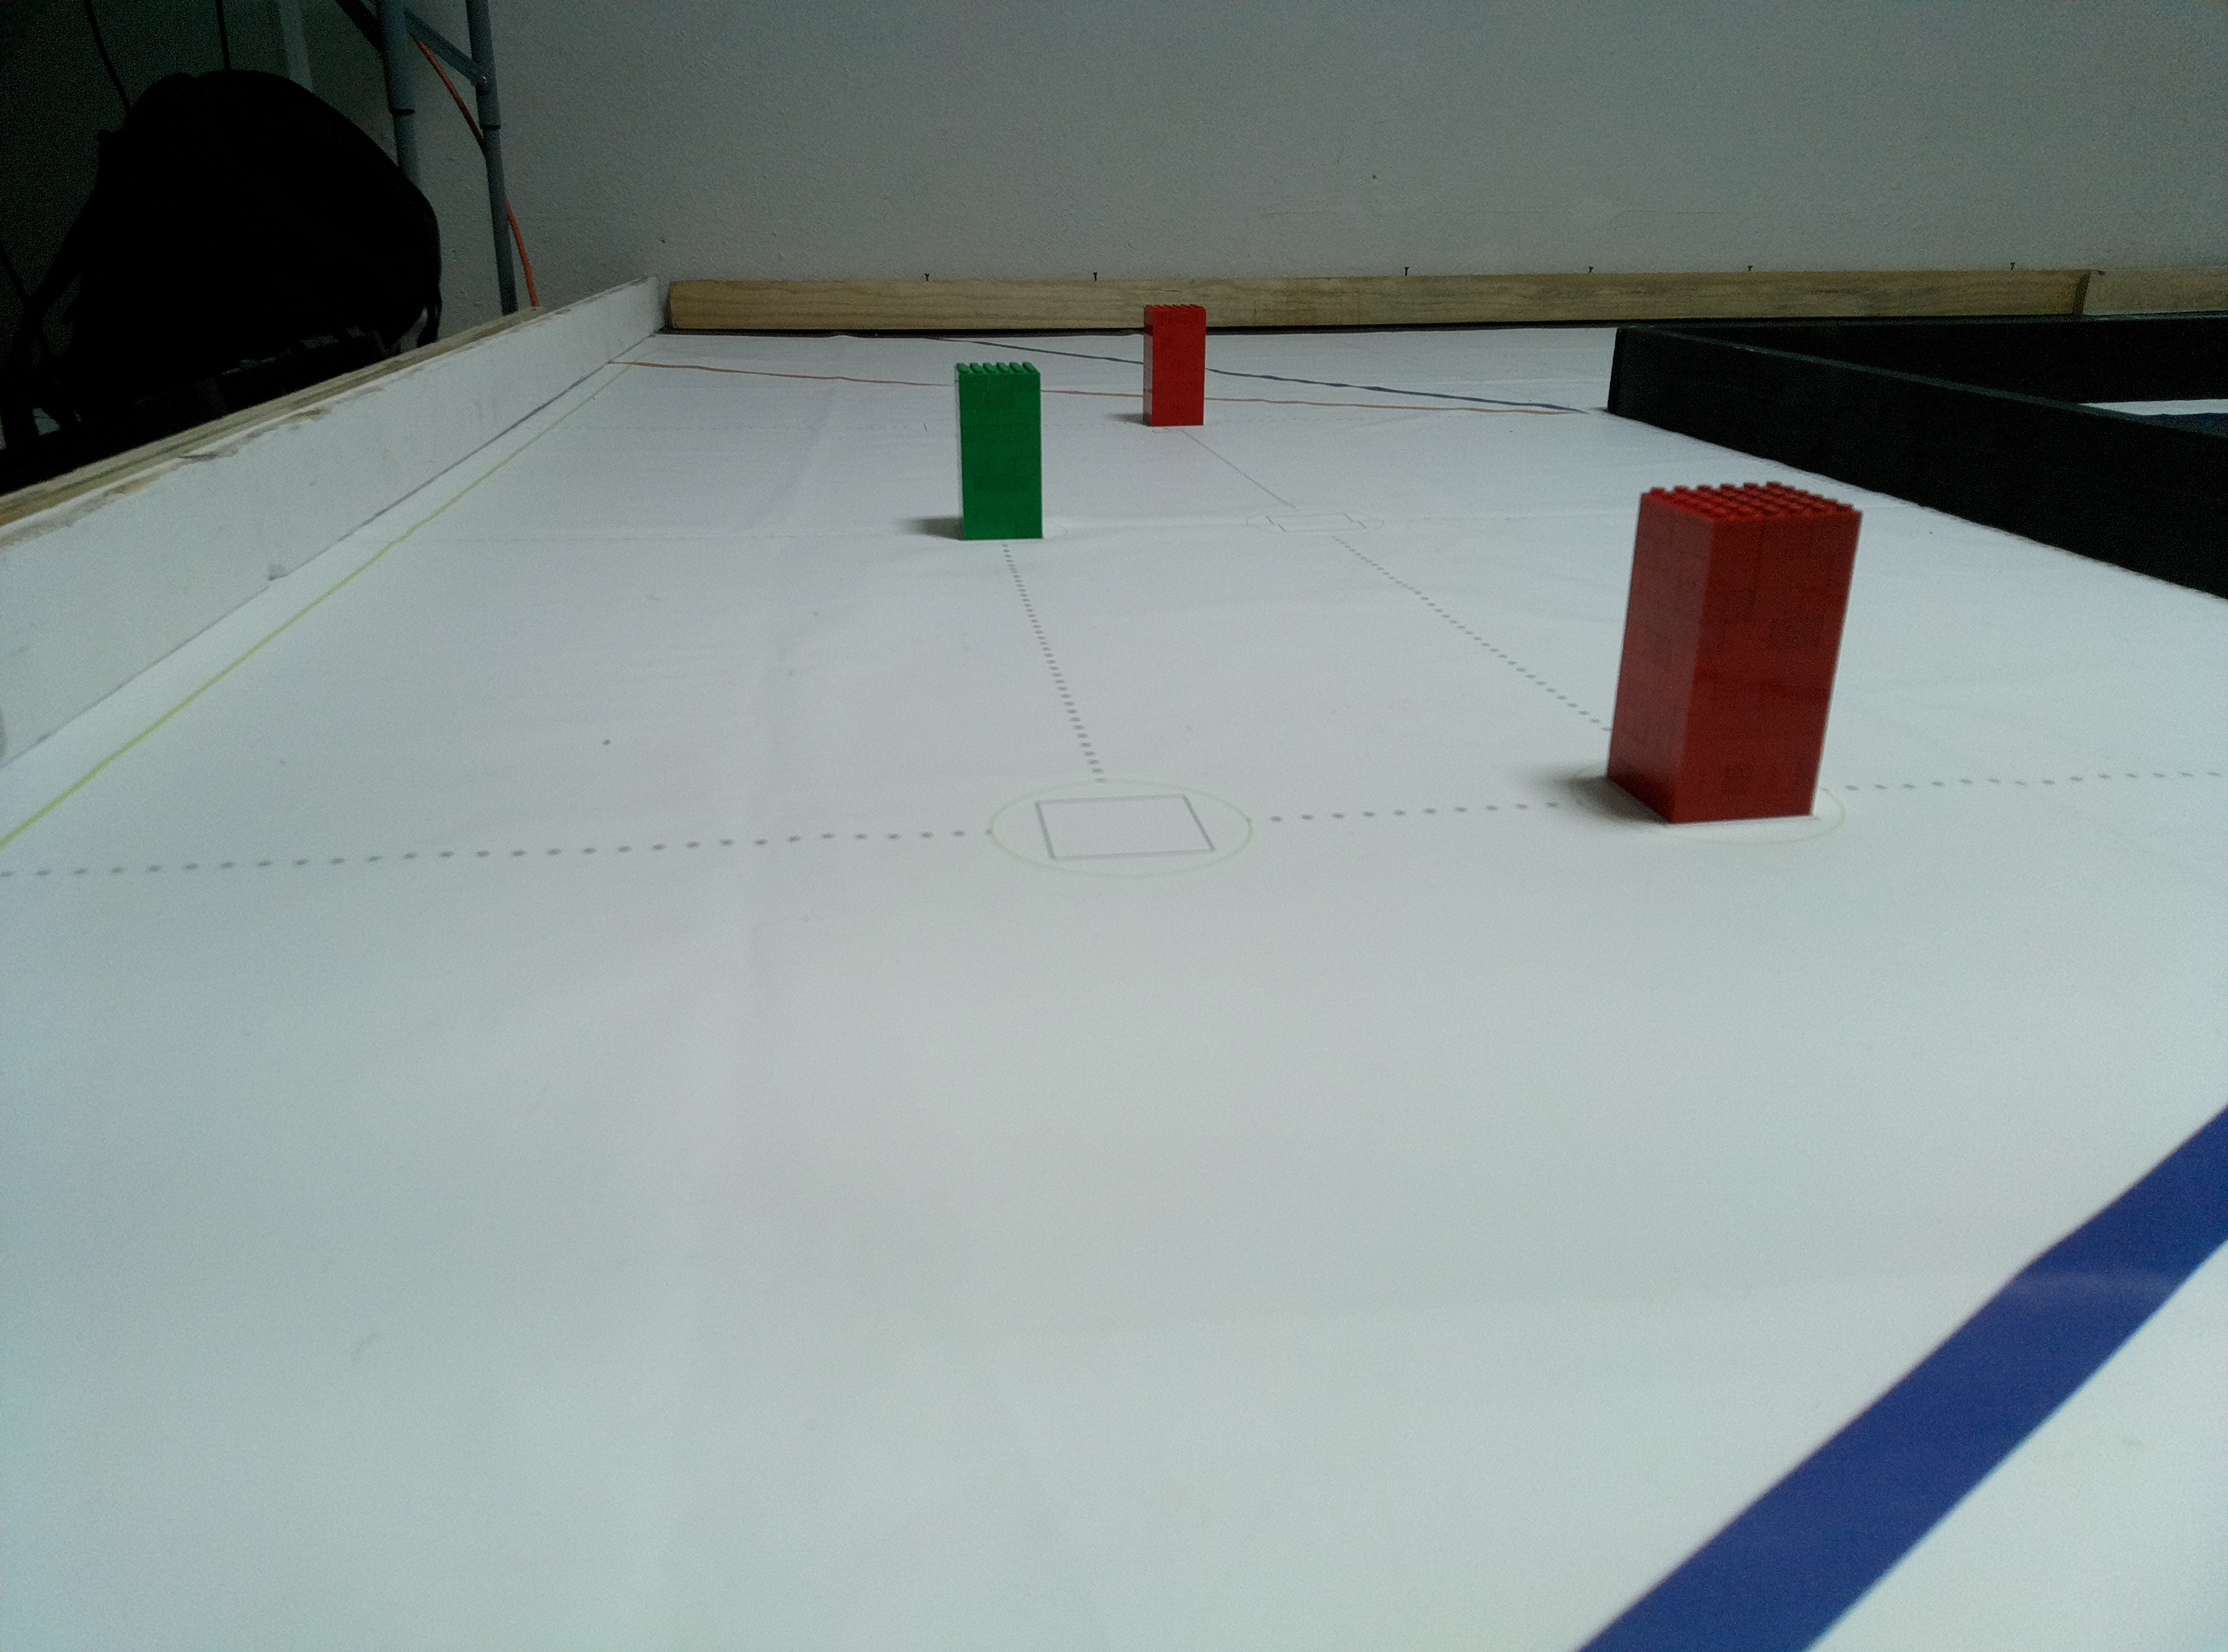greenbox: (952, 362, 1045, 540)
redbox: (1604, 477, 1862, 825), (1138, 300, 1209, 429)
